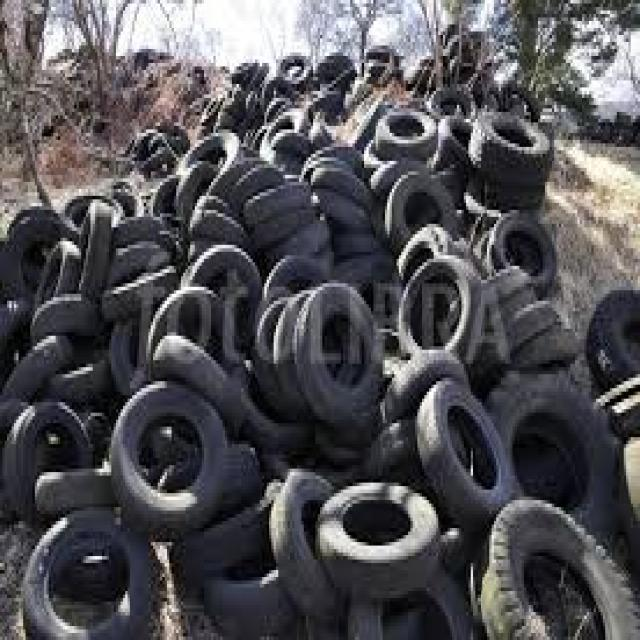Rubber -Non-Biodegradable but Recyclable-: (0, 34, 640, 640)
